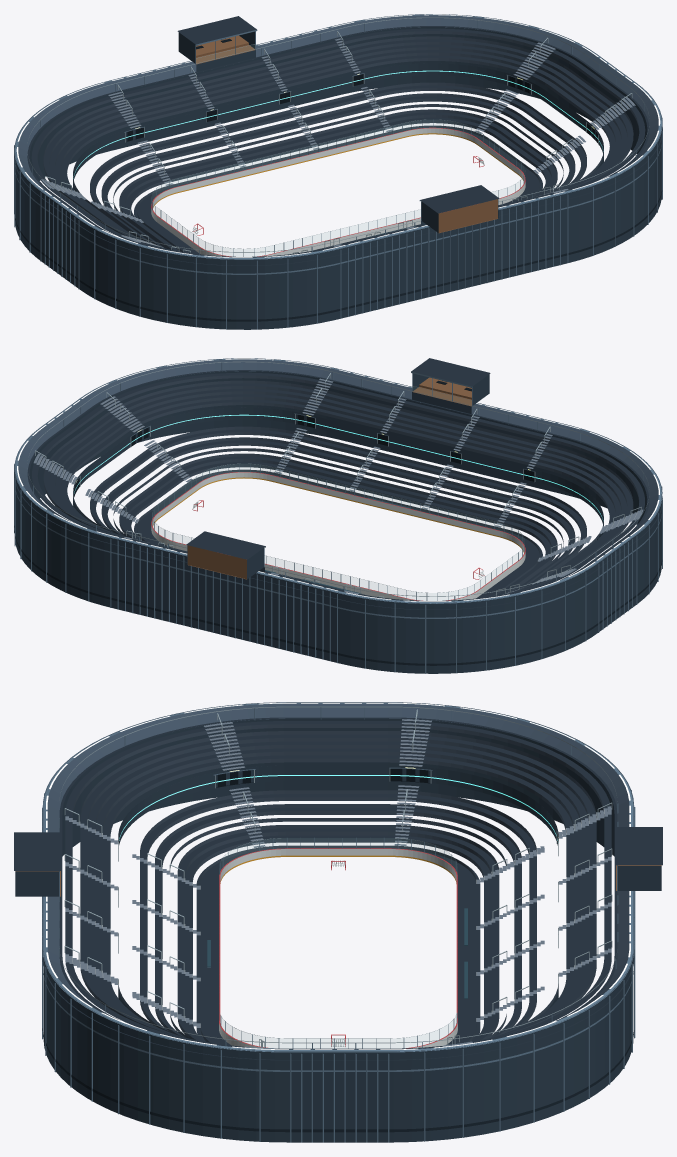
The model's file is bowl.glb.
3 renders of one model, top to bottom at view 1: azimuth 30°, elevation 25°; view 2: azimuth 150°, elevation 25°; view 3: azimuth 270°, elevation 25°, orthographic. The views are drawn at different scales.
Parts seen in each view (by area): view 1: Facade, Riser, Slab, Frame, Glass, Aisle, Board, Rail, Suite, Foundation, Lamp, Recess (+4 smaller); view 2: Facade, Riser, Slab, Frame, Glass, Aisle, Board, Rail, Suite, Foundation, Lamp, Nosing (+4 smaller); view 3: Facade, Slab, Riser, Frame, Aisle, Rail, Glass, Board, Foundation, Lamp, Nosing, Cap (+2 smaller).
Part boxes in pixels (x1,y1,x2,y2): Facade: [15, 14, 661, 329]; Riser: [14, 14, 662, 259]; Slab: [14, 16, 662, 265]; Frame: [14, 14, 662, 329]; Glass: [152, 45, 524, 256]; Aisle: [41, 38, 635, 247]; Board: [151, 128, 525, 256]; Rail: [27, 17, 649, 253]; Suite: [196, 35, 497, 233]; Foundation: [15, 190, 662, 321]; Lamp: [16, 14, 660, 257]; Recess: [127, 38, 598, 143]; Facade: [15, 358, 661, 673]; Riser: [14, 358, 662, 603]; Slab: [14, 358, 662, 609]; Frame: [14, 358, 662, 673]; Glass: [152, 387, 524, 600]; Aisle: [33, 378, 643, 594]; Board: [151, 472, 525, 600]; Rail: [27, 361, 648, 597]; Suite: [187, 377, 471, 579]; Foundation: [14, 526, 662, 665]; Lamp: [17, 358, 659, 601]; Nosing: [39, 382, 637, 594]; Facade: [15, 702, 661, 1142]; Slab: [14, 717, 662, 1060]; Riser: [43, 702, 633, 1051]; Frame: [42, 702, 635, 1142]; Aisle: [65, 719, 611, 1048]; Rail: [59, 706, 617, 1047]; Glass: [221, 838, 456, 1047]; Board: [219, 849, 457, 1048]; Foundation: [42, 1028, 634, 1132]; Lamp: [46, 703, 630, 1049]; Nosing: [72, 723, 604, 1045]; Cap: [219, 848, 457, 1048].
Size of the model in its own units: 105 by 16.65 by 82.3.
